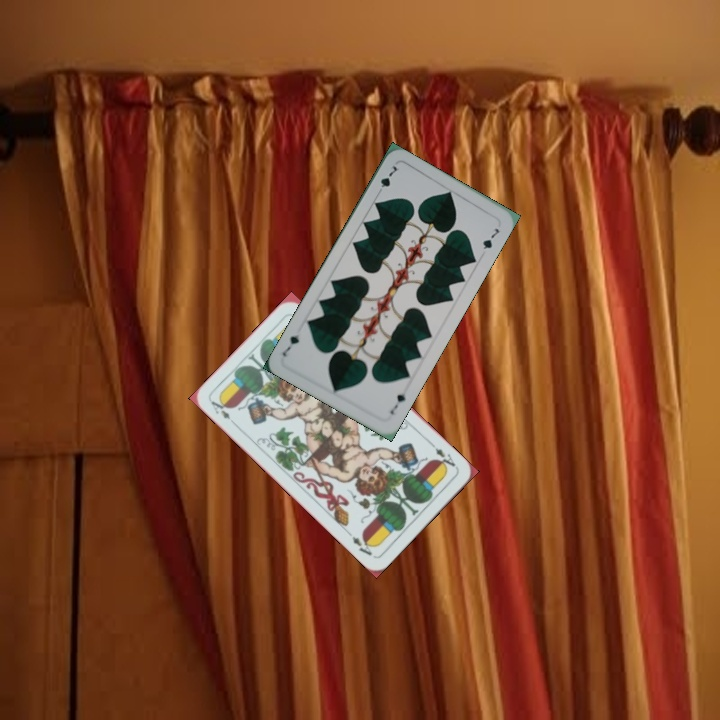EA: (427, 439, 460, 472), (207, 395, 239, 428)
G7: (373, 161, 400, 198), (386, 389, 408, 417)
